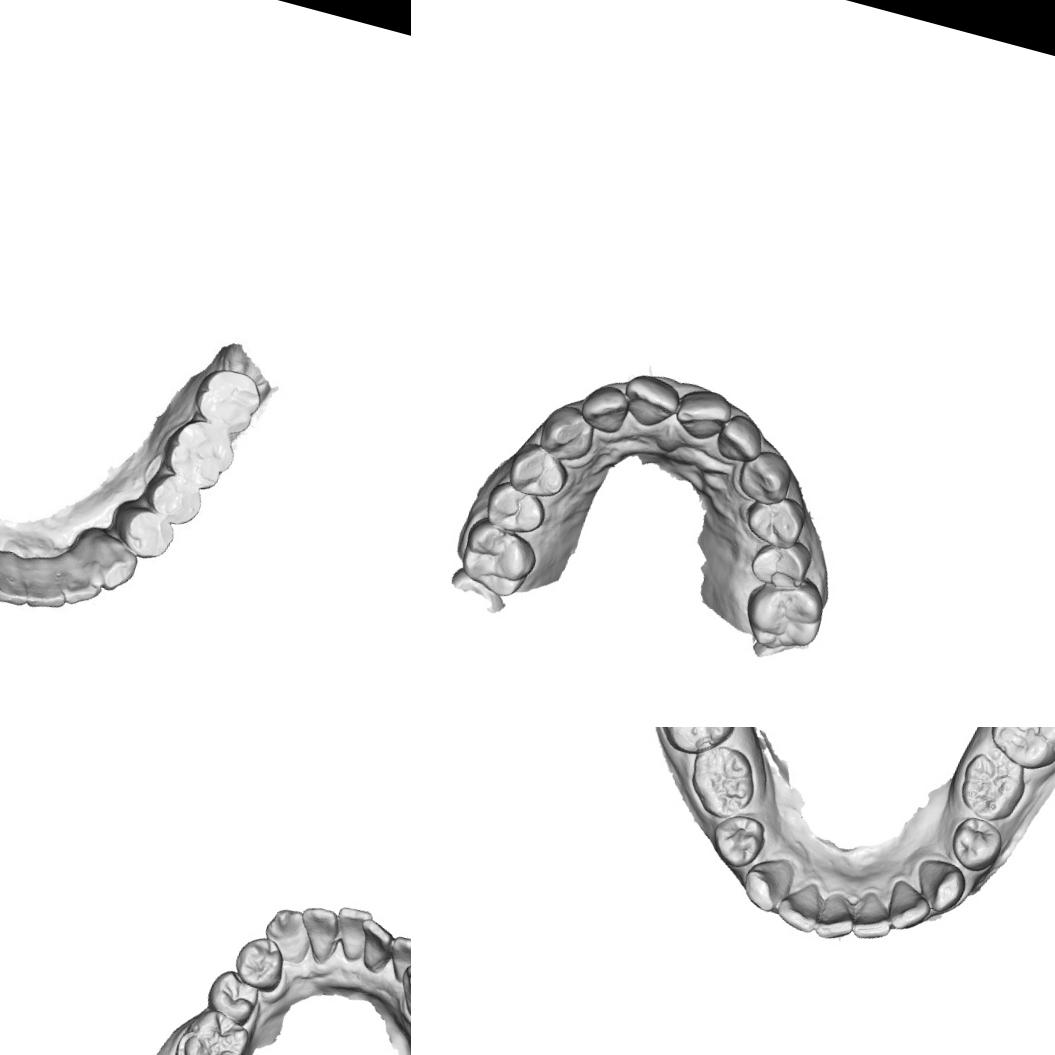canine: (732, 442, 798, 510), (534, 400, 600, 466), (736, 848, 798, 917), (906, 853, 971, 917), (228, 929, 290, 995), (256, 902, 318, 968), (85, 530, 145, 596), (390, 955, 411, 1025)
incisor: (668, 380, 736, 446), (615, 368, 684, 433), (770, 872, 827, 938), (709, 408, 769, 469), (289, 900, 344, 966), (52, 549, 109, 612), (574, 379, 634, 437), (881, 876, 936, 936), (348, 914, 399, 976), (23, 559, 77, 617), (325, 902, 374, 963), (807, 891, 862, 945), (847, 896, 897, 944), (0, 549, 38, 608), (381, 930, 411, 988)
molar: (734, 564, 832, 662), (452, 511, 543, 603), (156, 410, 244, 498), (679, 737, 765, 825), (952, 742, 1034, 829), (185, 360, 268, 440), (166, 1000, 256, 1055), (981, 727, 1055, 778), (646, 727, 746, 764)
premolar: (108, 498, 184, 566), (745, 530, 817, 596), (738, 487, 810, 553), (503, 438, 574, 504), (704, 806, 770, 876), (137, 468, 209, 532), (480, 475, 552, 539), (943, 810, 1009, 878), (201, 963, 266, 1027)
